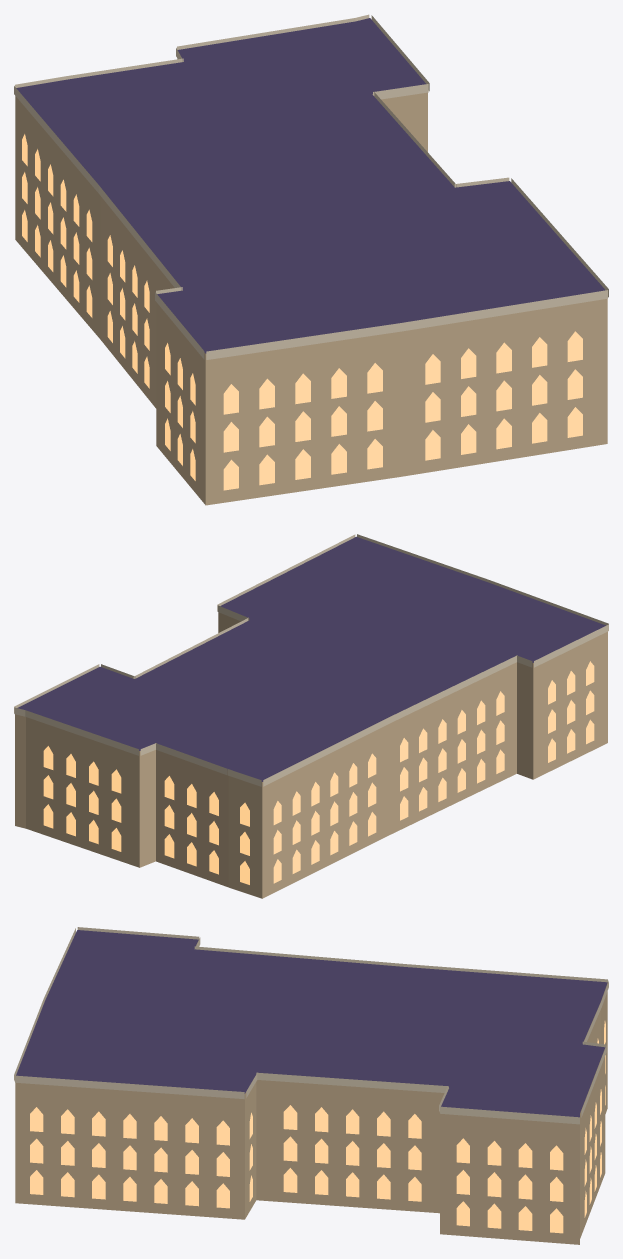
Rendered from core-stevenson-hall.glb.
The picture shows the model from 3 angles, top to bottom: view 1: azimuth 30°, elevation 25°; view 2: azimuth 150°, elevation 25°; view 3: azimuth 270°, elevation 25°; orthographic projection. The views are drawn at different scales.
Visible parts, largest first — view 1: campus/core-stevenson-hall-0; view 2: campus/core-stevenson-hall-0; view 3: campus/core-stevenson-hall-0.
Part boxes in pixels (bbox=[...]): campus/core-stevenson-hall-0: bbox=[14, 14, 608, 505]; campus/core-stevenson-hall-0: bbox=[14, 534, 608, 898]; campus/core-stevenson-hall-0: bbox=[14, 927, 608, 1244].
Size of the model in its own units: 42.81 by 13.45 by 56.58.
